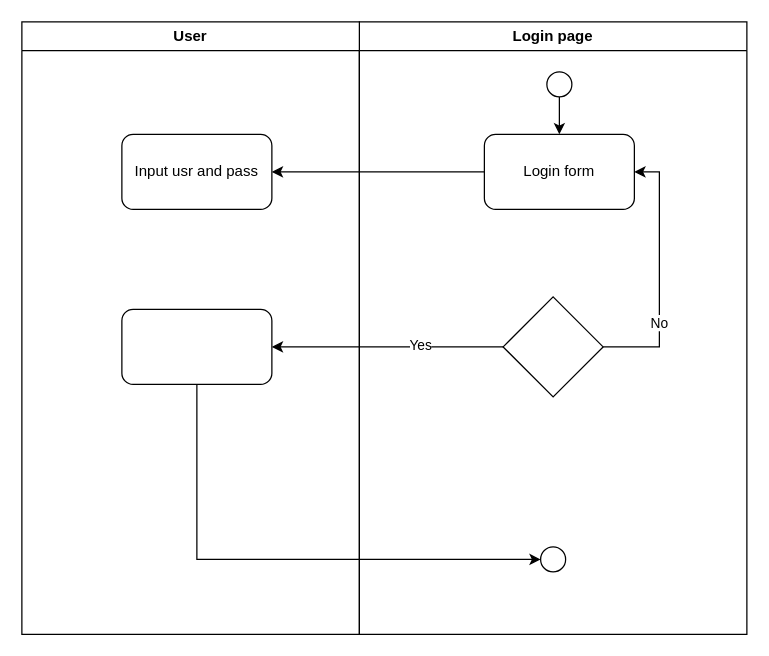
Image size: 769x656. Some labels were removed from this diagram. Each missing label, with the centre of its shape:
"Proceeds to transaction" goes at (196,346).
"Valid?" goes at (552,346).
